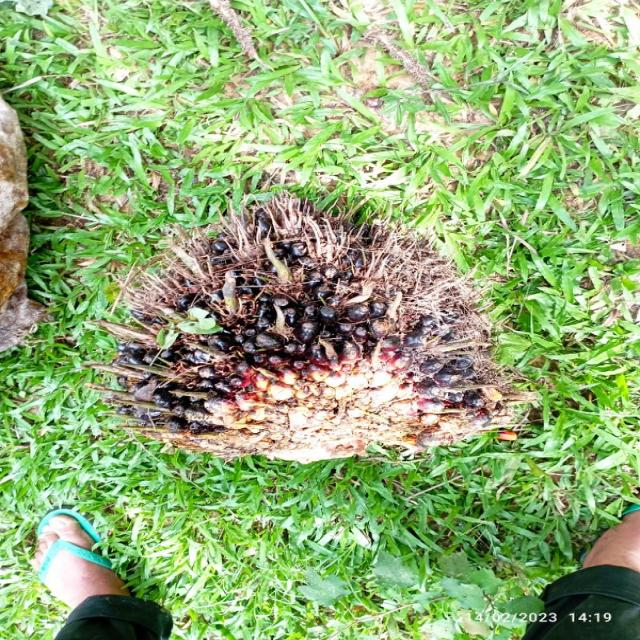fraksi 00: (105, 195, 527, 458)
